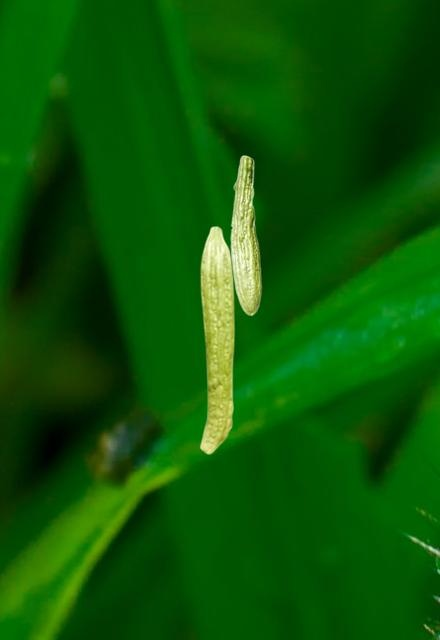ampalaya: (198, 224, 235, 456), (229, 155, 263, 316)
